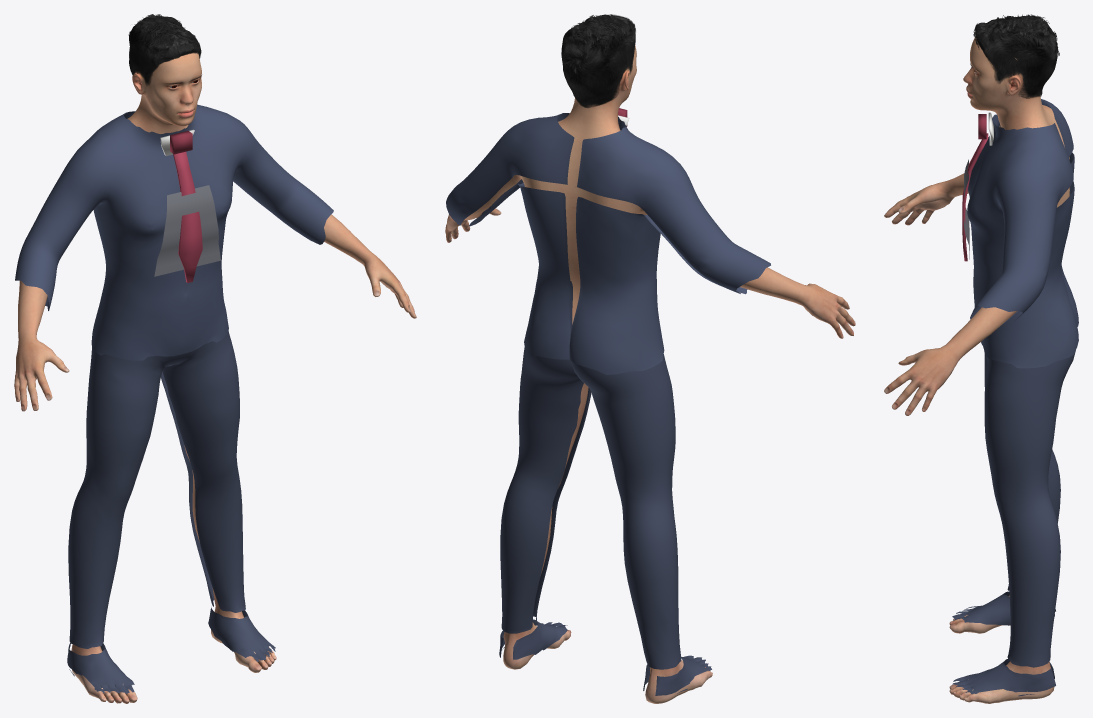
File: male-avatar.glb
The picture shows the model from 3 angles, left to right: view 1: azimuth 30°, elevation 25°; view 2: azimuth 150°, elevation 25°; view 3: azimuth 270°, elevation 25°; orthographic projection. The views are drawn at different scales.
Parts seen in each view (by area): view 1: SuitJacket, SuitTrousers, HumanExport, SuitVest, HumanExport.hair, NeckTie; view 2: SuitJacket, SuitTrousers, HumanExport, HumanExport.hair; view 3: SuitJacket, SuitTrousers, HumanExport, HumanExport.hair, NeckTie.
Boxes of the visible parts, <box> form: SuitJacket: <box>15,104,333,360</box>; SuitTrousers: <box>67,330,275,693</box>; HumanExport: <box>14,52,416,703</box>; SuitVest: <box>154,185,220,276</box>; HumanExport.hair: <box>128,14,201,85</box>; NeckTie: <box>173,151,202,282</box>; SuitJacket: <box>446,113,770,374</box>; SuitTrousers: <box>499,281,711,695</box>; HumanExport: <box>445,45,855,703</box>; HumanExport.hair: <box>561,14,635,107</box>; SuitJacket: <box>967,99,1078,368</box>; SuitTrousers: <box>952,272,1075,696</box>; HumanExport: <box>884,37,1069,703</box>; HumanExport.hair: <box>973,14,1059,98</box>; NeckTie: <box>962,133,988,261</box>.
Bounding box in the file's own units: 1.06 × 1.67 × 0.4562.
Materials: 10 (4 with a texture image).
